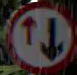Two way: (4, 2, 76, 70)
